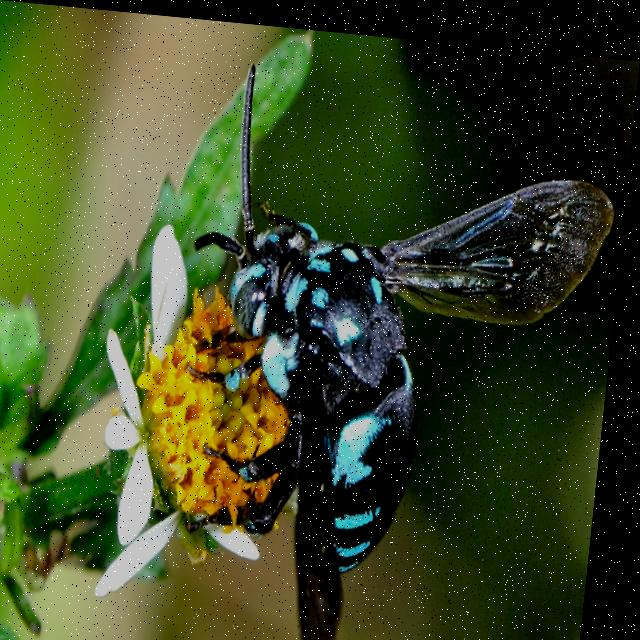Thyreus: (164, 46, 628, 640)
